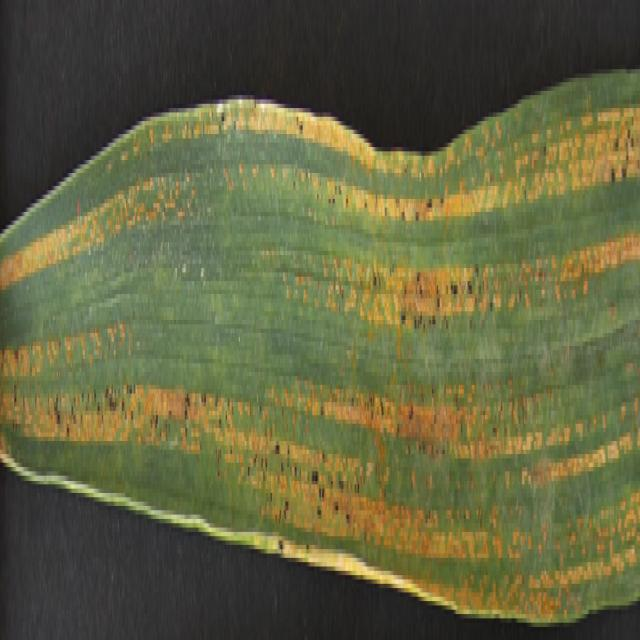leaf rust: (1, 96, 640, 618)
